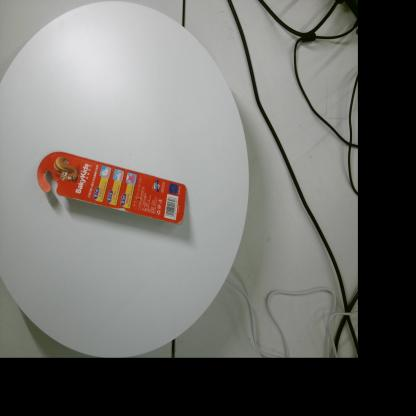Personal Hygiene: (37, 152, 186, 226)
